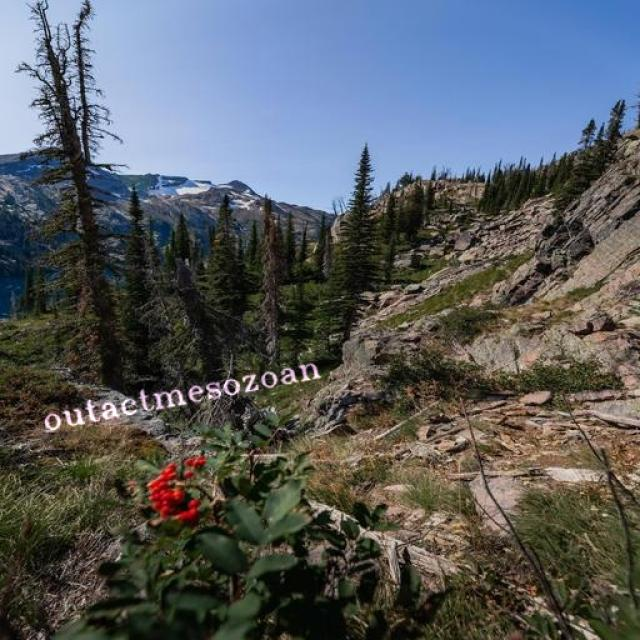watermark: (36, 352, 322, 435)
